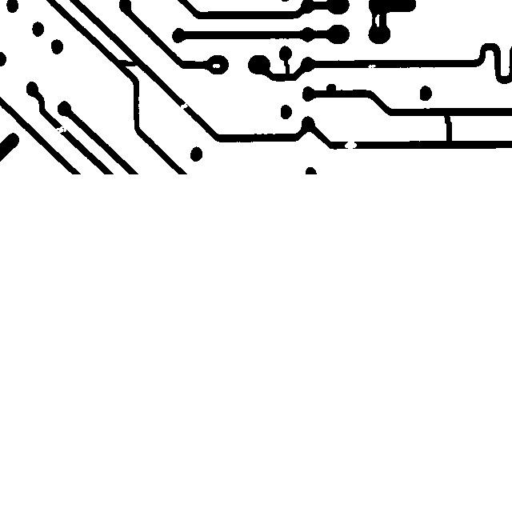mousebite: (360, 57, 383, 75)
open: (48, 116, 74, 142), (337, 130, 364, 155), (170, 94, 195, 118)
pin-hole: (367, 6, 387, 34), (205, 56, 227, 75)
short: (436, 104, 459, 150), (110, 52, 146, 74), (276, 49, 297, 85)
spur: (318, 76, 343, 103)
